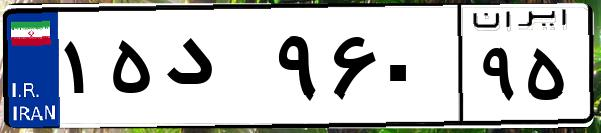0: (385, 28, 445, 110)
1: (57, 26, 110, 100)
5: (525, 38, 570, 115), (110, 28, 158, 98)
6: (330, 28, 385, 110)
9: (270, 28, 330, 110), (475, 38, 525, 113)
د: (158, 20, 270, 120)
